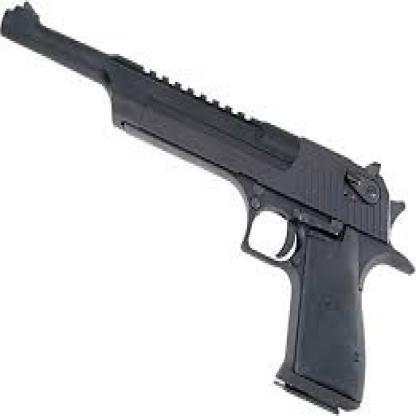Pistol: (0, 1, 416, 416)
